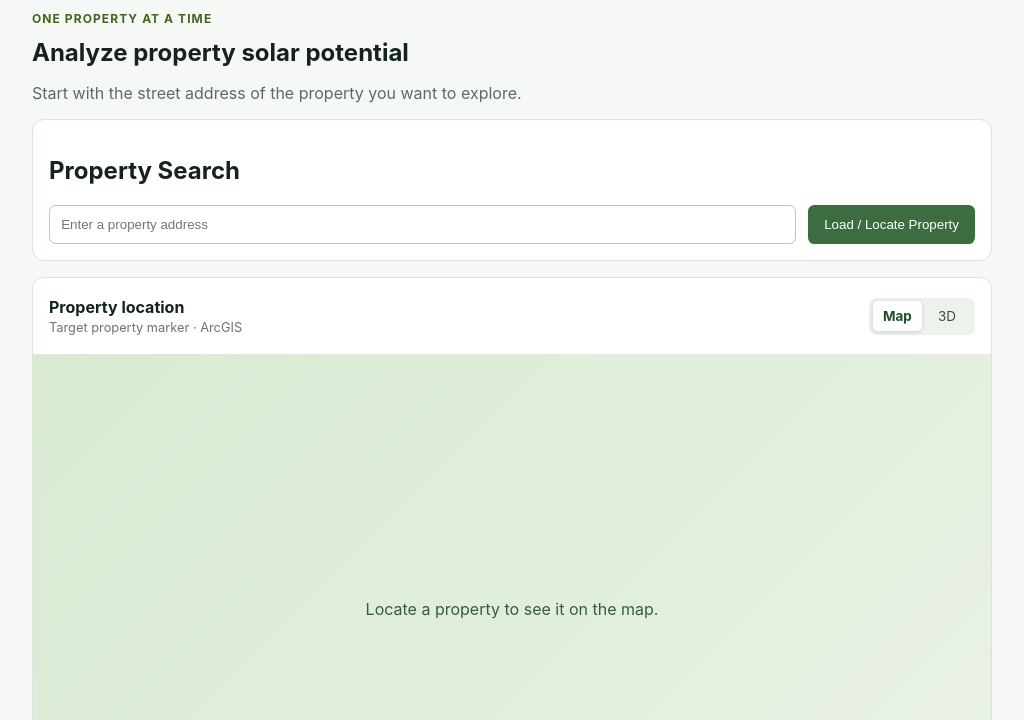
Test: Analyze property search › saves a system and shows only backend PVWatts production
The image size is (1024, 720).
Type "380 New York St, Redlands CA" into the field labelled "property address" at (423, 224), box [49,205,796,244]
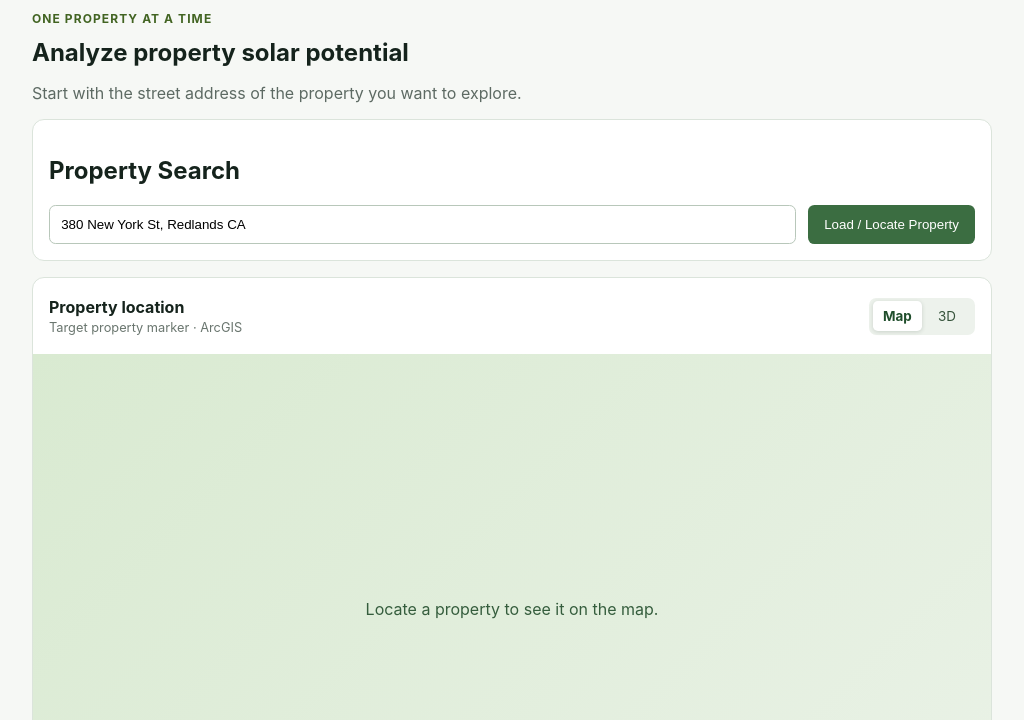
Click the button "Load / Locate Property" at (892, 224), box [808,205,975,244]
(page scrolled)
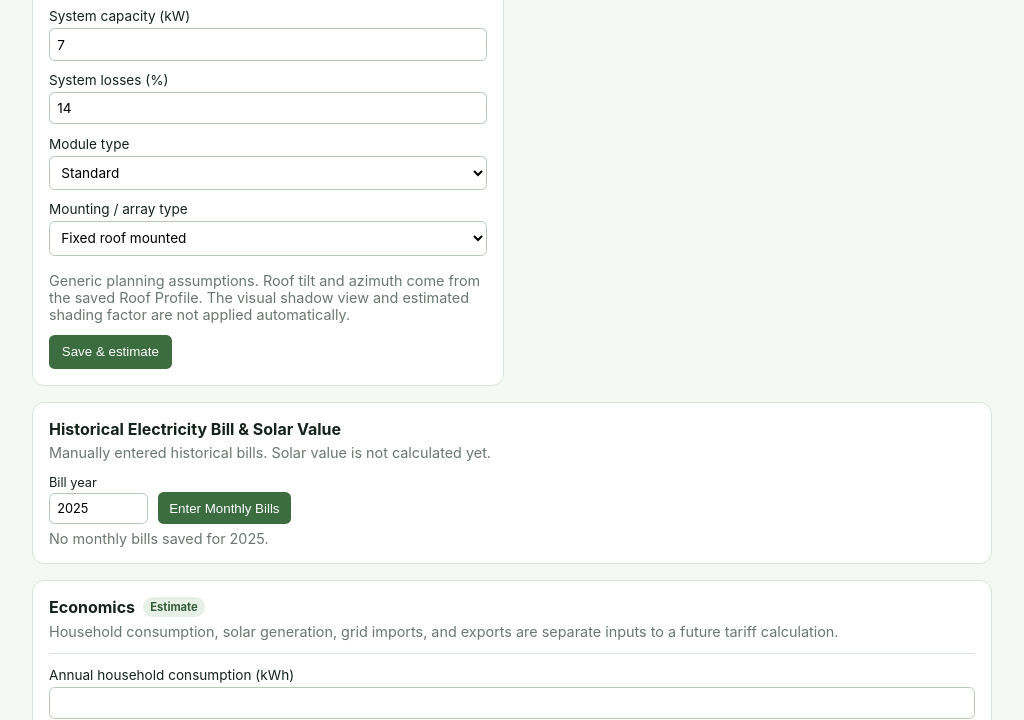
Expected: the text "8,400 kWh" is not shown
Expected: the button "Save & estimate" is shown
Click the button "Save & estimate" at (110, 352), box [49,334,172,369]
(page scrolled)
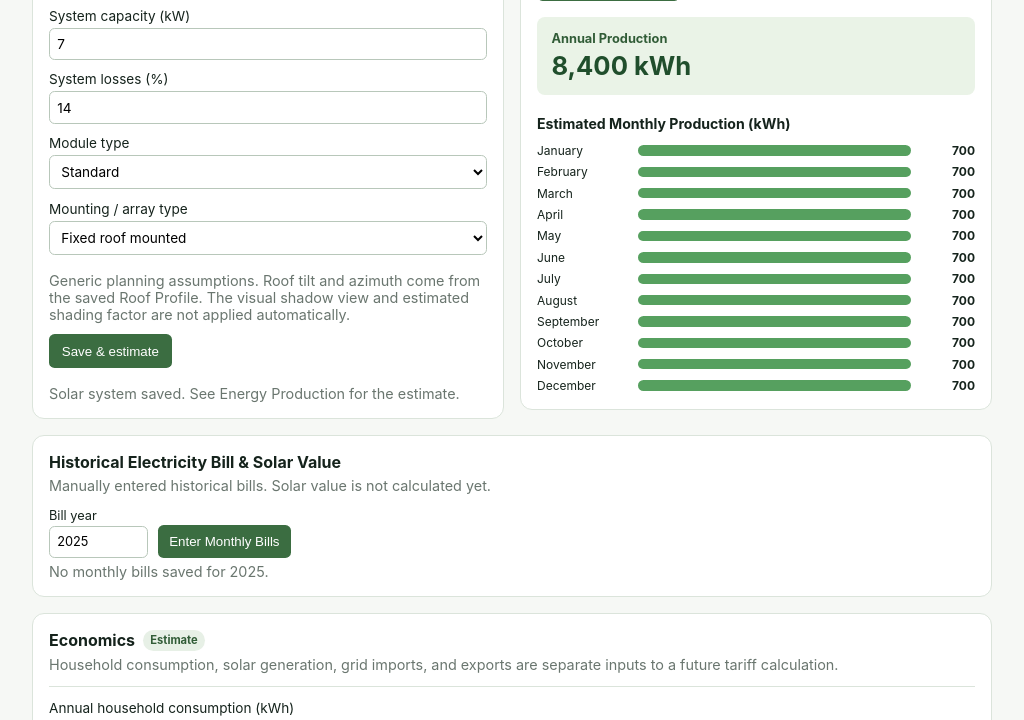
Expected: the text "8,400 kWh" is shown, [551,50,691,81]
